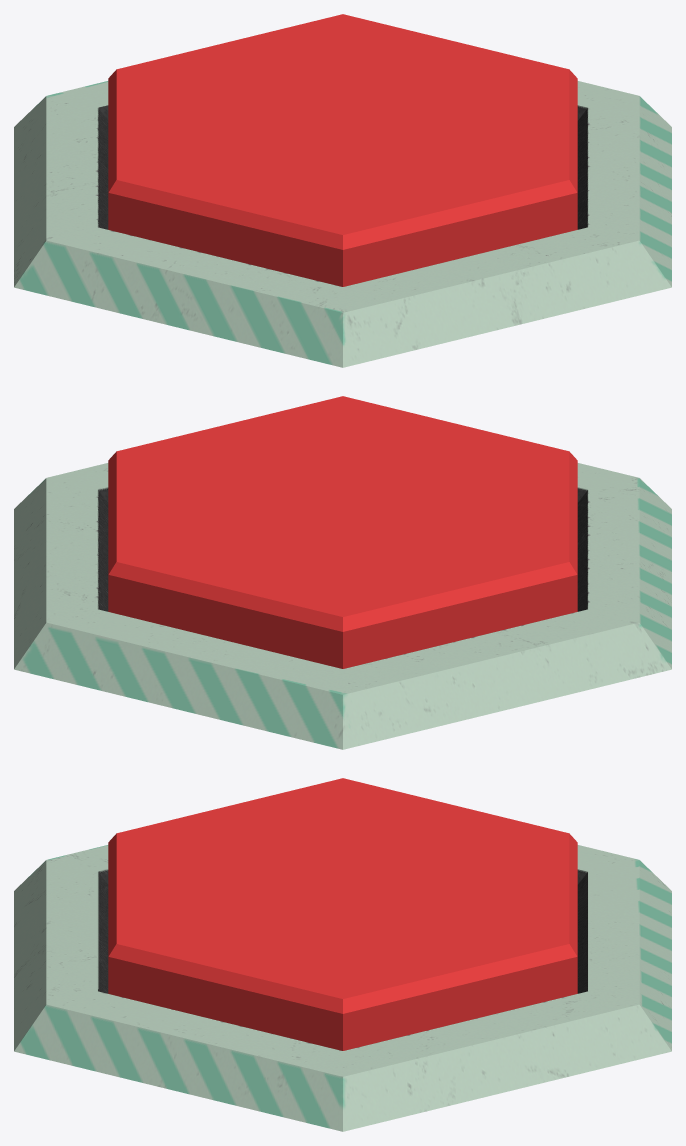
Rendered from btn-waveform.glb.
3 renders of one model, top to bottom at view 1: azimuth 30°, elevation 25°; view 2: azimuth 150°, elevation 25°; view 3: azimuth 270°, elevation 25°, orthographic.
Parts seen in each view (by area): view 1: pCylinder10, pCylinder9; view 2: pCylinder10, pCylinder9; view 3: pCylinder10, pCylinder9.
Part boxes in pixels (x1,y1,x2,y2): pCylinder10: (108,14,577,286); pCylinder9: (14,81,671,367); pCylinder10: (108,396,577,668); pCylinder9: (14,463,671,749); pCylinder10: (108,778,577,1050); pCylinder9: (14,845,671,1131).
Size of the model in its own units: 5.95 by 0.715 by 5.16.
Materials: 1 (1 with a texture image).
